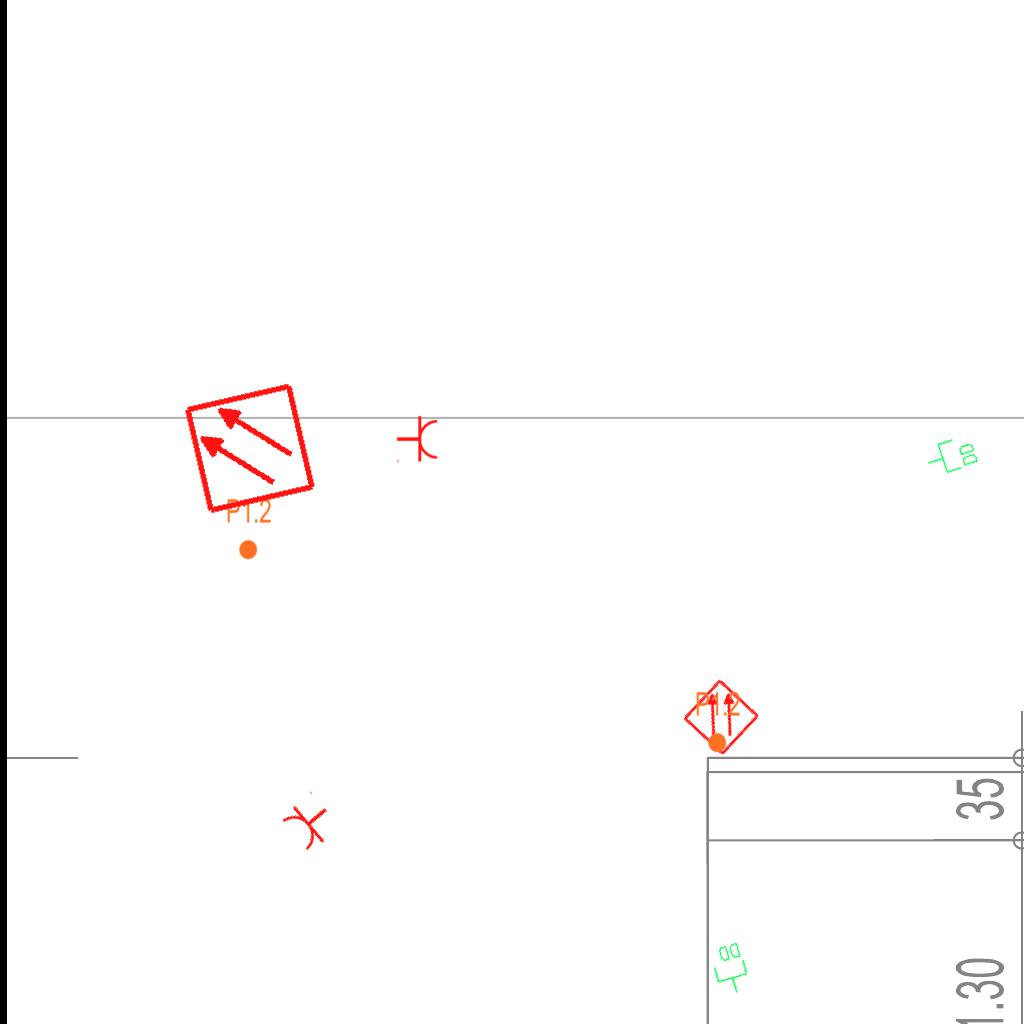Datenanschluss_zweifach: (921, 431, 982, 481), (707, 939, 754, 999)
Downlight_LED_Einbauleuchten_Flur: (226, 497, 272, 561), (695, 690, 741, 754)
RMO_Rauchmelder_optischer: (181, 380, 318, 517), (681, 677, 761, 757)
Schukosteckdose_einfach: (276, 789, 343, 855), (396, 415, 439, 465)
